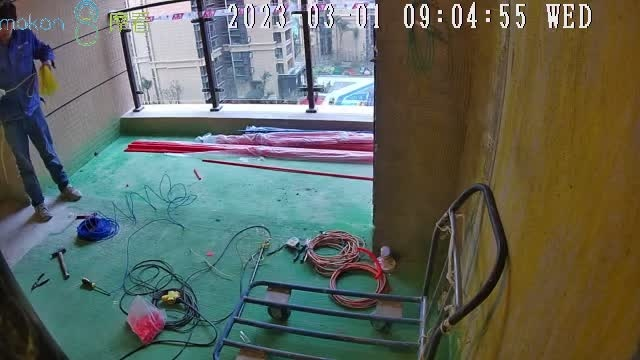people: (2, 3, 82, 220)
window: (113, 1, 373, 112)
